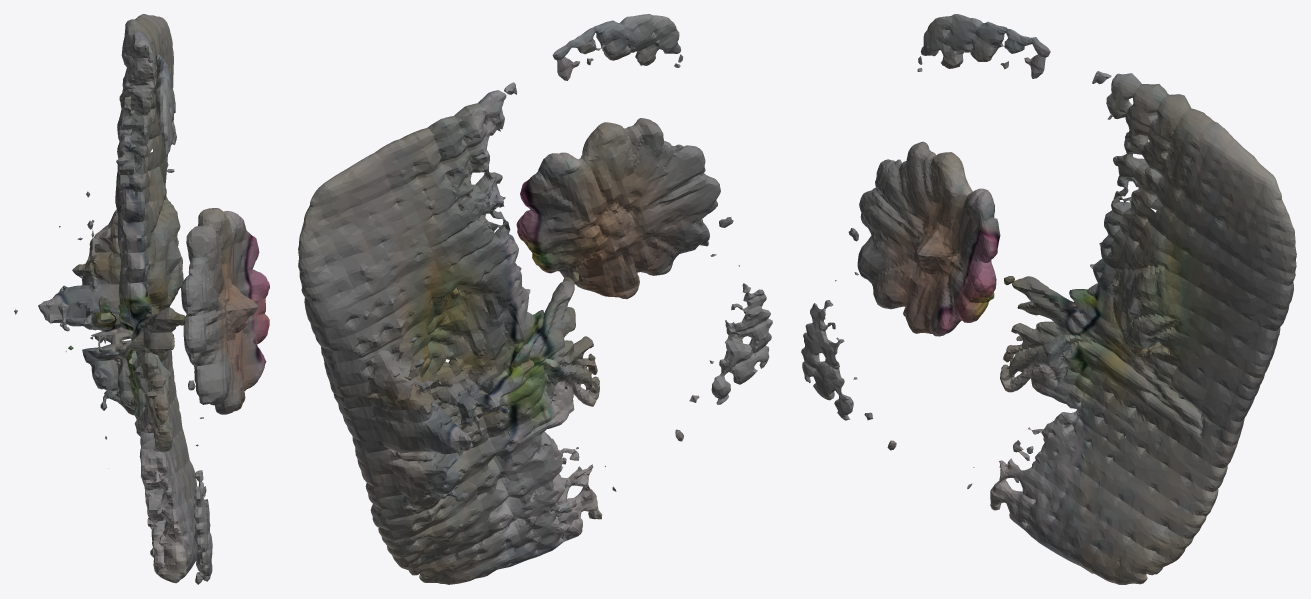
File: flower_pink.glb
The picture shows the model from 3 angles, left to right: view 1: azimuth 30°, elevation 25°; view 2: azimuth 150°, elevation 25°; view 3: azimuth 270°, elevation 25°; orthographic projection. The views are drawn at different scales.
Visible parts, largest first — view 1: world; view 2: world; view 3: world.
Boxes of the visible parts, x1=… form: world: x1=14, y1=14, x2=269, y2=584; world: x1=298, y1=14, x2=772, y2=584; world: x1=801, y1=14, x2=1296, y2=584.
Bounding box in the file's own units: 0.2374 × 0.55 × 0.4774.
Materials: 1 (1 with a texture image).
